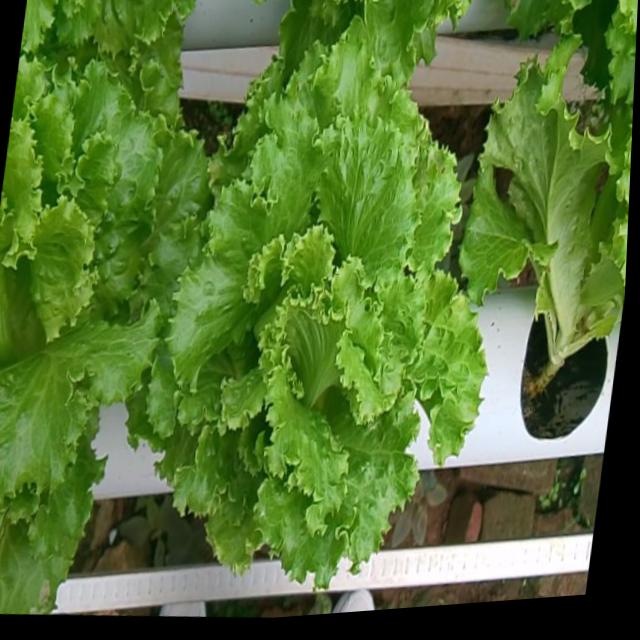Mature: (136, 56, 474, 598), (0, 73, 199, 512)
